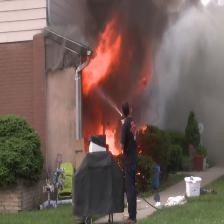fire: (75, 11, 161, 178), (145, 0, 224, 128)
